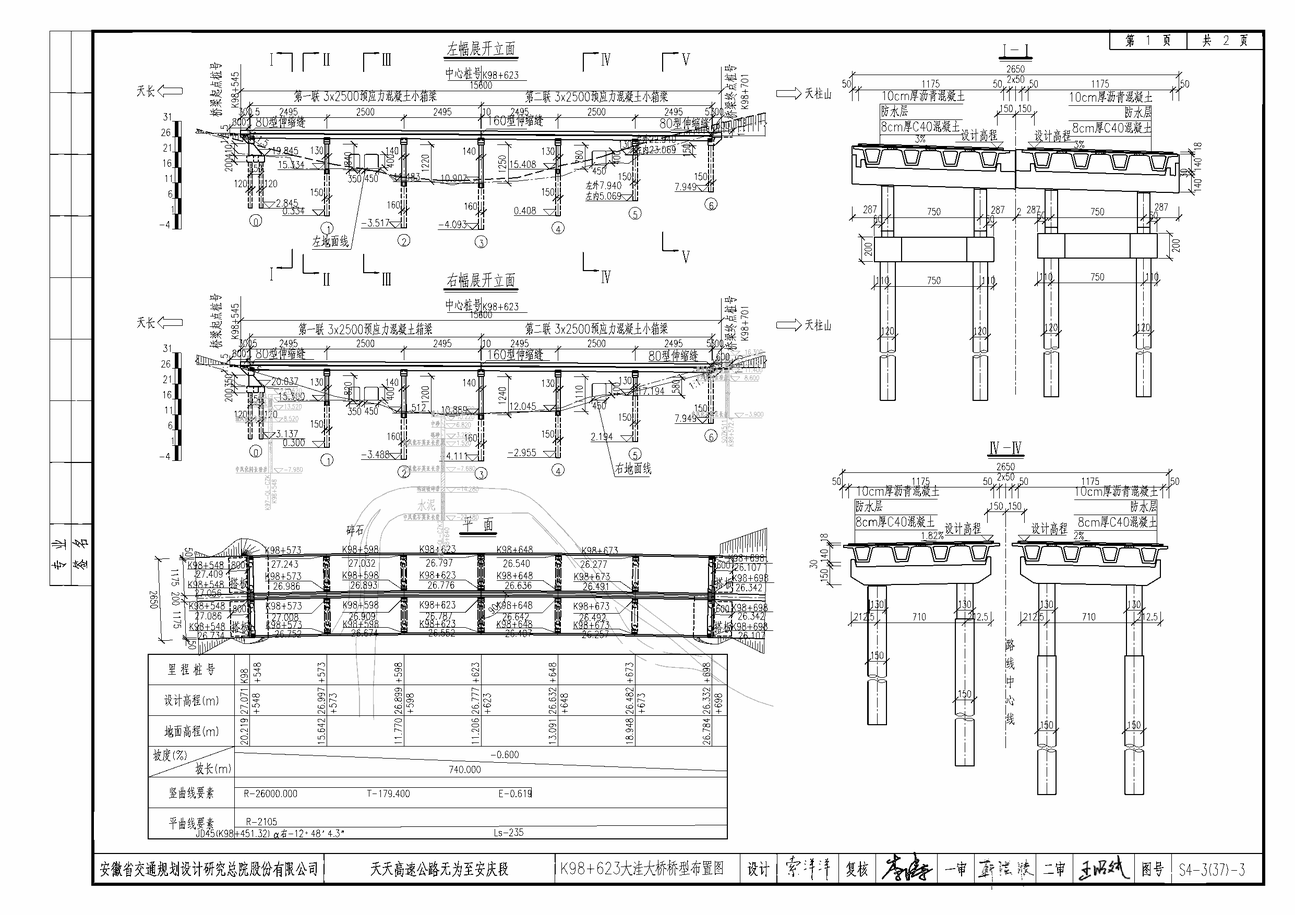A: (129, 36, 794, 283), (127, 273, 828, 502)
